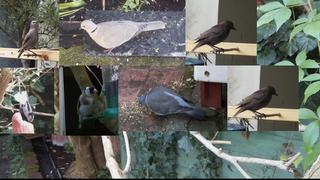collared dove: (79, 20, 166, 54)
goldfinch: (77, 86, 98, 129)
long tailed tit: (23, 88, 34, 123)
starling: (191, 20, 237, 54), (233, 86, 279, 120), (18, 20, 39, 59)
wood pigeon: (138, 86, 207, 120)
